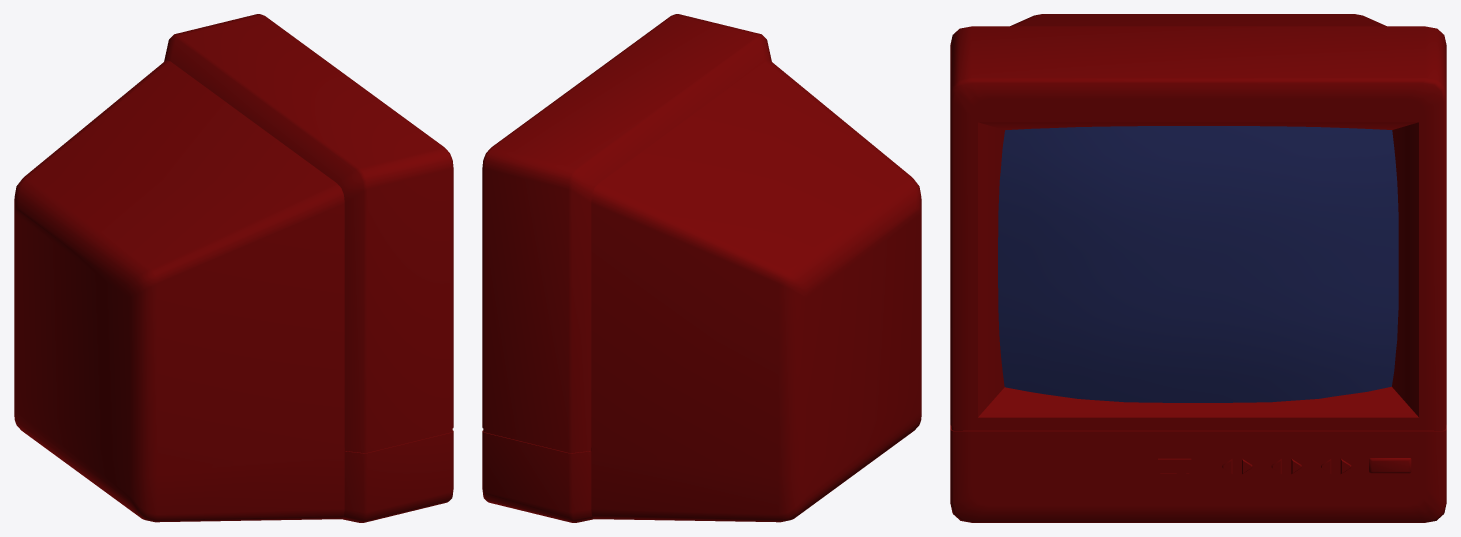
Rendered from GG_cpu_screen.FBX.
The picture shows the model from 3 angles, left to right: view 1: azimuth 30°, elevation 25°; view 2: azimuth 150°, elevation 25°; view 3: azimuth 270°, elevation 25°; orthographic projection. The views are drawn at different scales.
Visible parts, largest first — view 1: Box111; view 2: Box111; view 3: Box111, Object601.
Boxes of the visible parts, <box> form: Box111: <box>14,14,453,522</box>; Box111: <box>482,14,921,522</box>; Box111: <box>950,14,1446,522</box>; Object601: <box>998,126,1398,402</box>.
Bounding box in the file's own units: 26.45 × 31.15 × 31.54.
